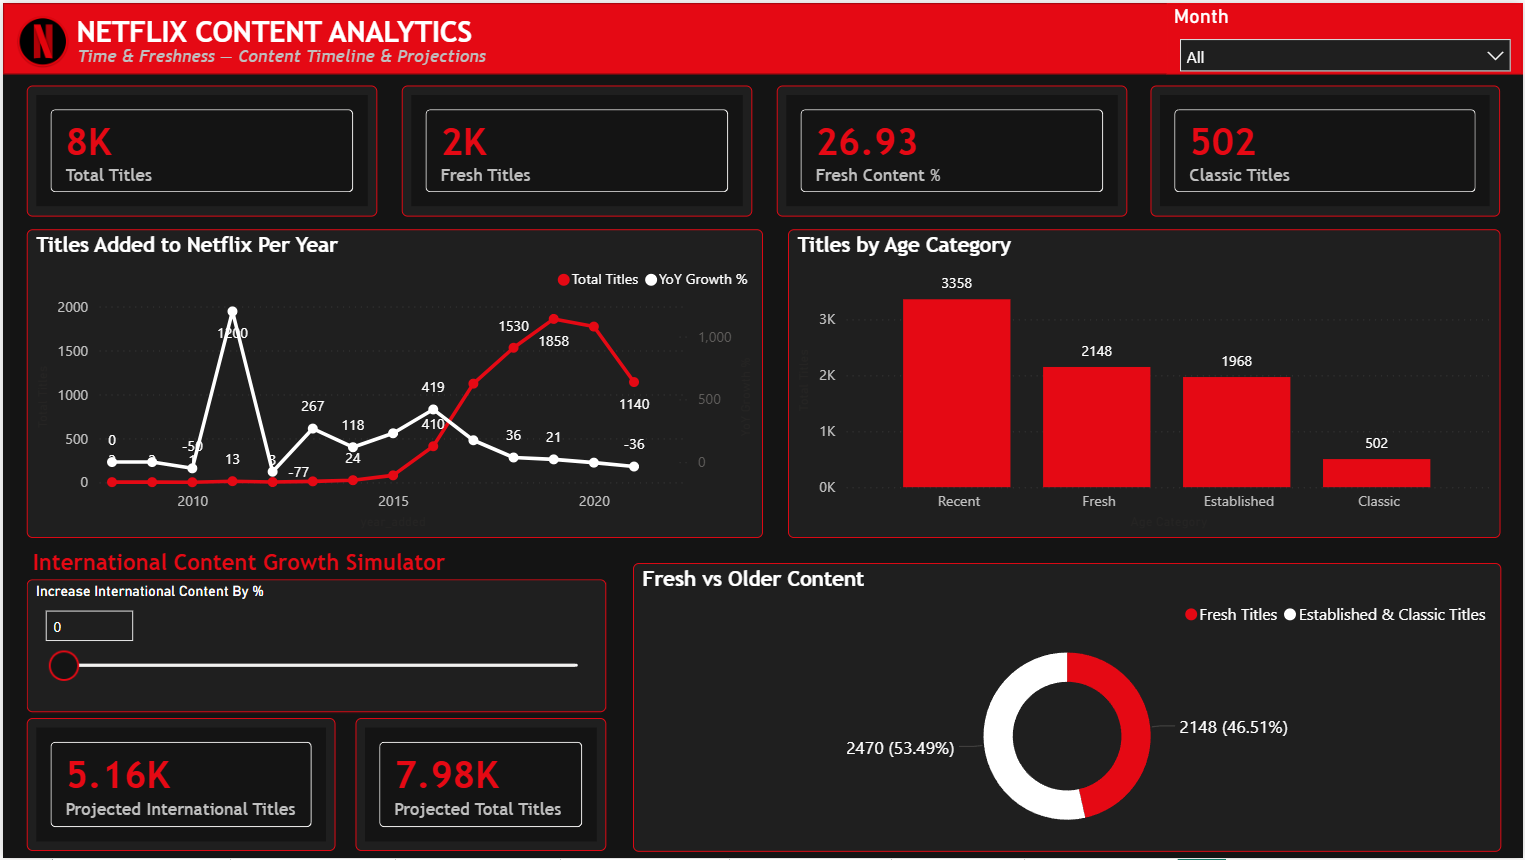

What the dashboard file says about the page in this screenshot:
{"tool":"powerbi","page":{"name":"Time & Freshness","canvas":[1280,720],"ordinal":3},"visuals":[{"type":"shape","box":[0,0,1280,60],"z":0},{"type":"textbox","box":[57,5,346,38],"z":1000},{"type":"image","box":[9,7,48,49],"z":2000},{"type":"textbox","box":[57,30,356,29],"z":3000},{"type":"slicer","title":"Increase International Content By %","fields":{"Values":["International Growth %.International Growth %"]},"box":[20,485.6,487.8,112.2],"z":4000},{"type":"cardVisual","fields":{"Data":["_Measures.Total Titles"]},"box":[20,69.3,295,110],"z":5000},{"type":"cardVisual","fields":{"Data":["_Measures.Fresh Titles"]},"box":[335.6,69.3,295,110],"z":6000},{"type":"cardVisual","fields":{"Data":["_Measures.Fresh Content %"]},"box":[651.1,69.3,295,110],"z":7000},{"type":"cardVisual","fields":{"Data":["_Measures.Classic Titles"]},"box":[966.7,69.9,294.4,110],"z":8000},{"type":"lineChart","title":"Titles Added to Netflix Per Year","fields":{"Category":["netflix_titles.year_added"],"Y":["_Measures.Total Titles"],"Y2":["_Measures.YoY Growth %"]},"box":[20,190.4,620,260],"z":9000},{"type":"clusteredColumnChart","title":"Titles by Age Category","fields":{"Category":["netflix_titles.Age Category"],"Y":["_Measures.Total Titles"]},"box":[661.1,191,600,260],"z":10000},{"type":"textbox","box":[20,454.4,360,32.2],"z":11000},{"type":"cardVisual","fields":{"Data":["_Measures.Projected International Titles"]},"box":[20,602.2,260,112.2],"z":12000},{"type":"cardVisual","fields":{"Data":["_Measures.Projected Total Titles"]},"box":[296.7,602.2,211.1,112.2],"z":13000},{"type":"donutChart","title":"Fresh vs Older Content","fields":{"Y":["_Measures.Fresh Titles","_Measures.Established & Classic Titles"]},"box":[530,471.1,731.1,243.3],"z":14000},{"type":"slicer","title":"Month","fields":{"Values":["netflix_titles.month_added"]},"box":[980,0,300,60],"z":15000}]}

Visuals, with their boxes in screenshot pixels (x1, y1, x2, y2), scaled from the page's 1280x720 canvas onto the 1525x860 screenshot:
shape: crop(0, 0, 1524, 72)
textbox: crop(68, 6, 480, 51)
image: crop(11, 8, 68, 67)
textbox: crop(68, 36, 492, 70)
"Increase International Content By %" slicer: crop(24, 580, 605, 714)
cardVisual - _Measures.Total Titles: crop(24, 83, 375, 214)
cardVisual - _Measures.Fresh Titles: crop(400, 83, 751, 214)
cardVisual - _Measures.Fresh Content %: crop(776, 83, 1127, 214)
cardVisual - _Measures.Classic Titles: crop(1152, 83, 1502, 215)
"Titles Added to Netflix Per Year" lineChart: crop(24, 227, 762, 538)
"Titles by Age Category" clusteredColumnChart: crop(788, 228, 1502, 539)
textbox: crop(24, 543, 453, 581)
cardVisual - _Measures.Projected International Titles: crop(24, 719, 334, 853)
cardVisual - _Measures.Projected Total Titles: crop(353, 719, 605, 853)
"Fresh vs Older Content" donutChart: crop(631, 563, 1502, 853)
"Month" slicer: crop(1168, 0, 1524, 72)
